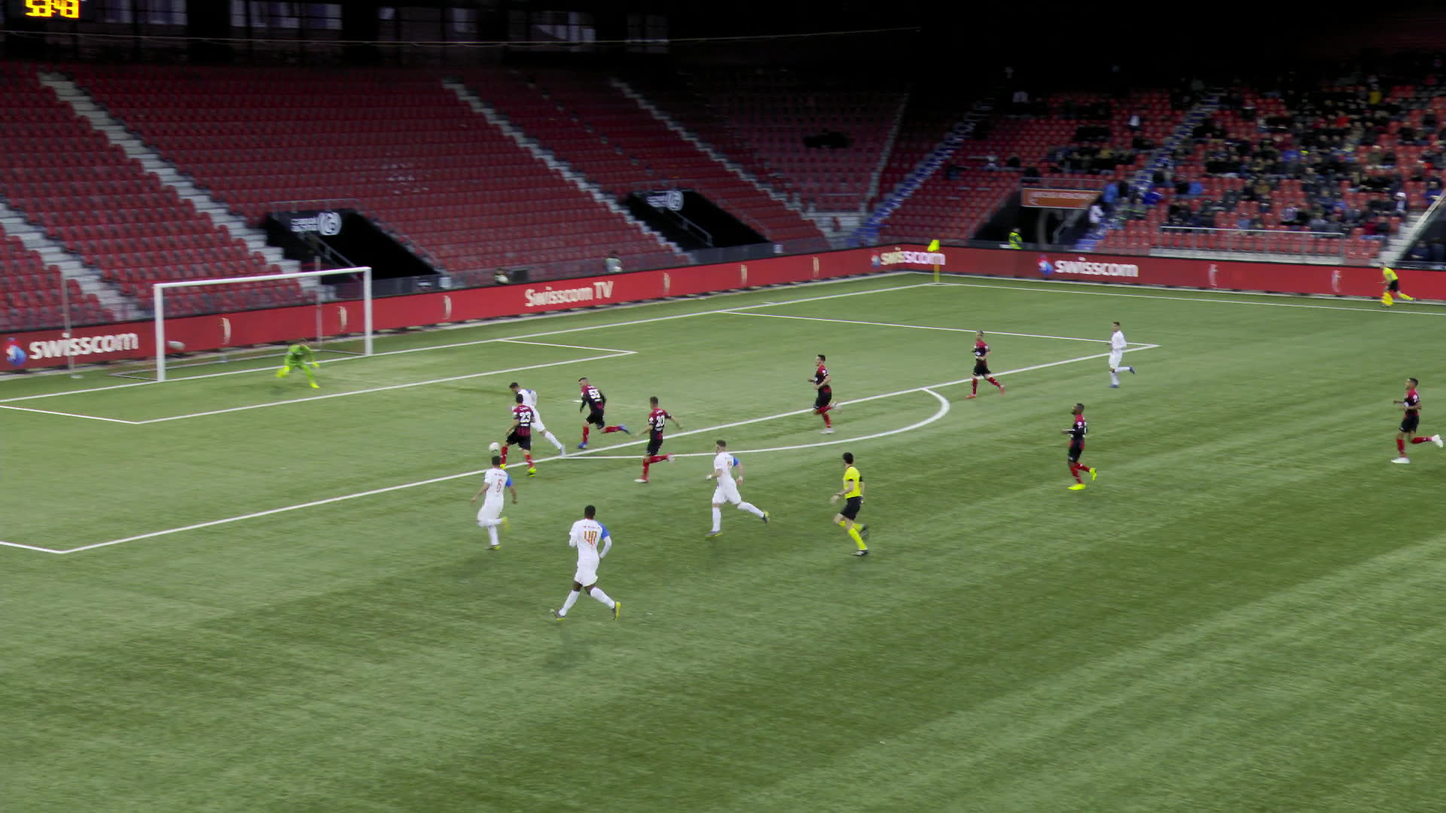ball: (489, 442, 499, 450)
player: (550, 504, 619, 620), (704, 440, 768, 539), (469, 455, 517, 550), (1390, 378, 1442, 463), (508, 382, 566, 456), (634, 396, 683, 483), (575, 376, 630, 449), (1061, 402, 1097, 489), (500, 394, 535, 477), (807, 354, 840, 433), (966, 330, 1004, 397), (275, 337, 319, 388), (1106, 321, 1134, 388)
referee: (830, 452, 868, 556), (1377, 261, 1415, 306)
